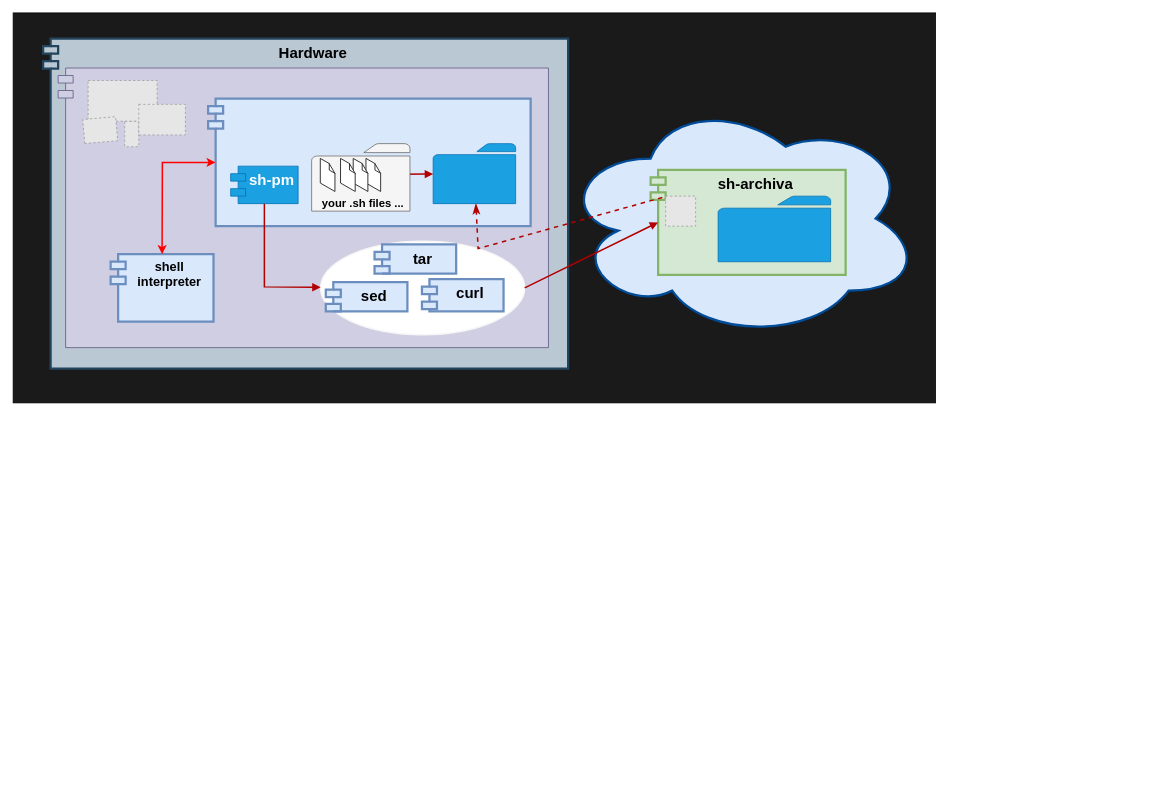
This 1159x802 diagram has some shape labels left out. Grey dashed boxes stand in for pictures. Each missing label, with the box of its shape:
Linux S.O.: (57, 67, 548, 348)
sh-pm local repository: (432, 143, 516, 204)
sh-pm remote repository: (717, 195, 831, 262)
YOUR AMAZING SH PROJECT: (207, 97, 531, 227)
